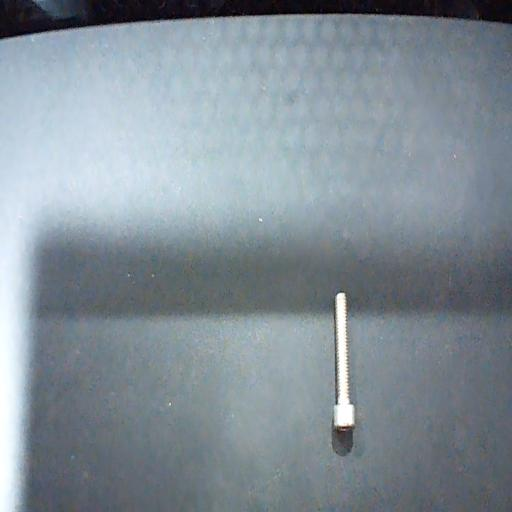screw: (333, 291, 355, 433)
